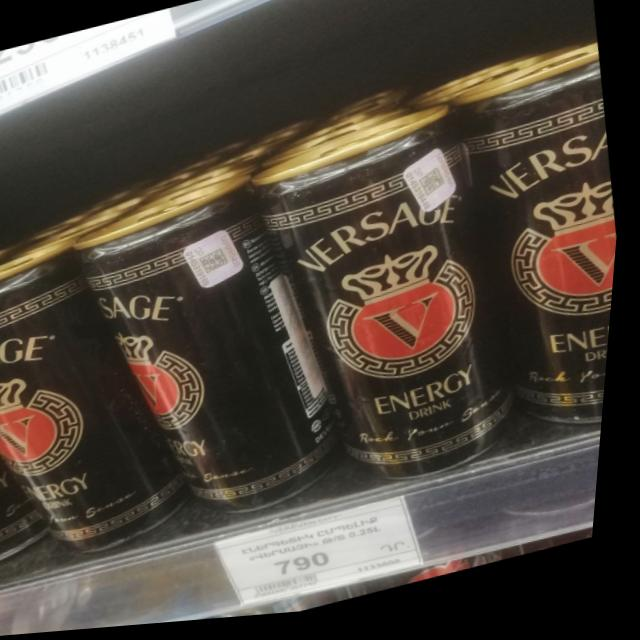datamatrix: (421, 173, 453, 207), (202, 250, 236, 280)
